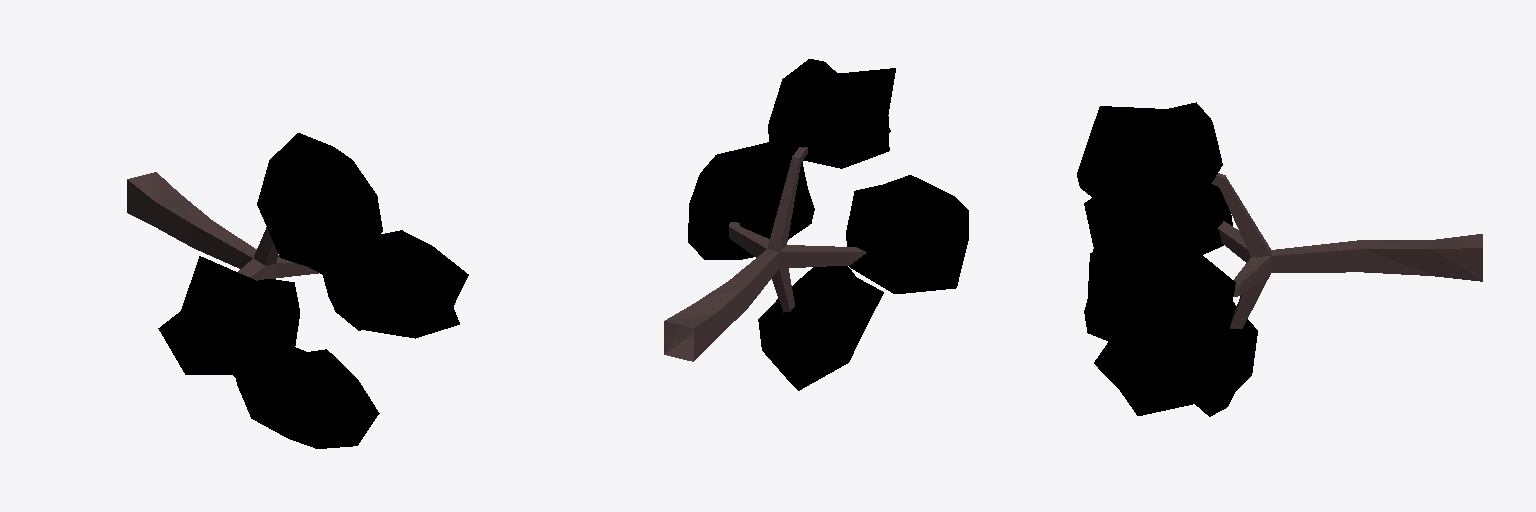
The picture shows the model from 3 angles: view 1: azimuth 30°, elevation 25°; view 2: azimuth 150°, elevation 25°; view 3: azimuth 270°, elevation 25°; orthographic projection.
Parts seen in each view (by area): view 1: low_poly_tree; view 2: low_poly_tree; view 3: low_poly_tree.
Part boxes in pixels (x1,y1,x2,y2): low_poly_tree: (127, 133, 468, 448); low_poly_tree: (664, 59, 968, 390); low_poly_tree: (1077, 102, 1482, 416).
Bounding box in the file's own units: 1.6 × 1.72 × 2.06.
2 materials, 1 textured.